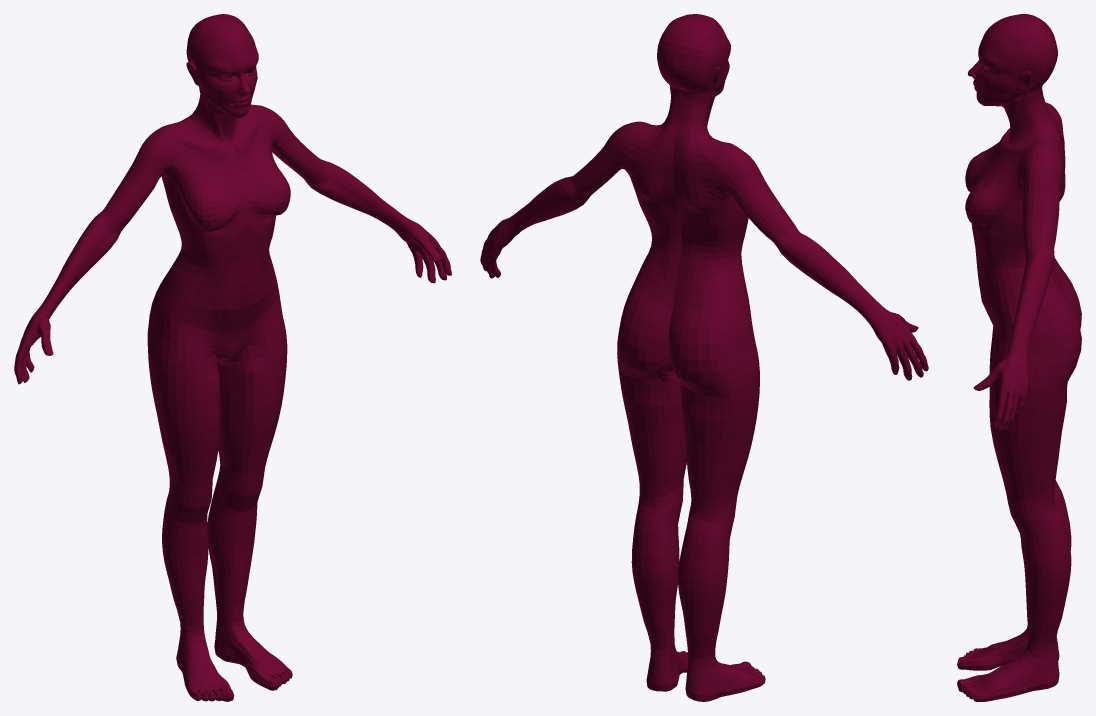
Rendered from Female_Model_BaseMesh.obj.
3 renders of one model, left to right at view 1: azimuth 30°, elevation 25°; view 2: azimuth 150°, elevation 25°; view 3: azimuth 270°, elevation 25°, orthographic. The views are drawn at different scales.
Visible parts, largest first — view 1: female_body_basemesh; view 2: female_body_basemesh; view 3: female_body_basemesh.
Boxes of the visible parts, box(x1,y1,x2,y2) form: female_body_basemesh: box(14, 14, 451, 701); female_body_basemesh: box(480, 14, 928, 701); female_body_basemesh: box(957, 14, 1081, 701).
Bounding box in the file's own units: 54.35 × 78.48 × 13.41.
